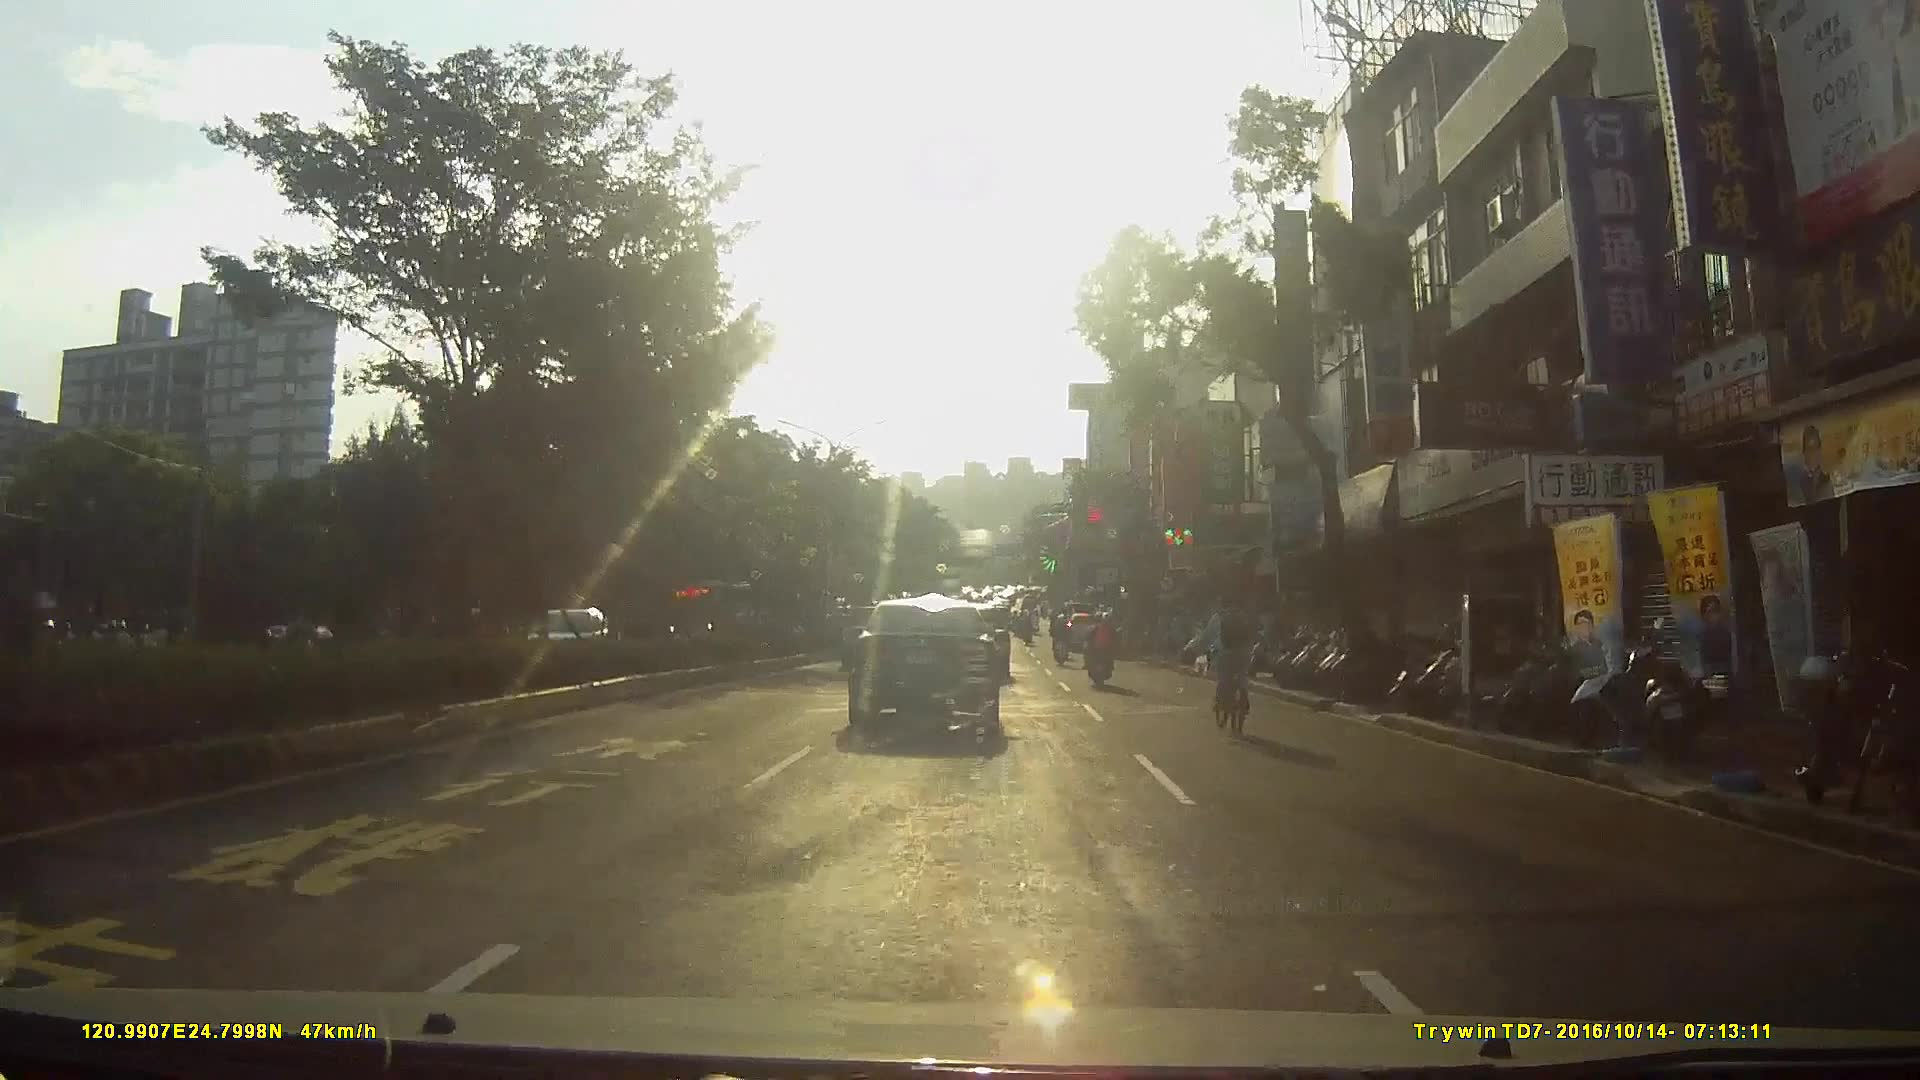rider: (1204, 587, 1271, 737), (270, 603, 328, 683), (1086, 612, 1119, 689), (1049, 610, 1074, 668)
vehicle: (848, 605, 1017, 754), (516, 611, 637, 683)
